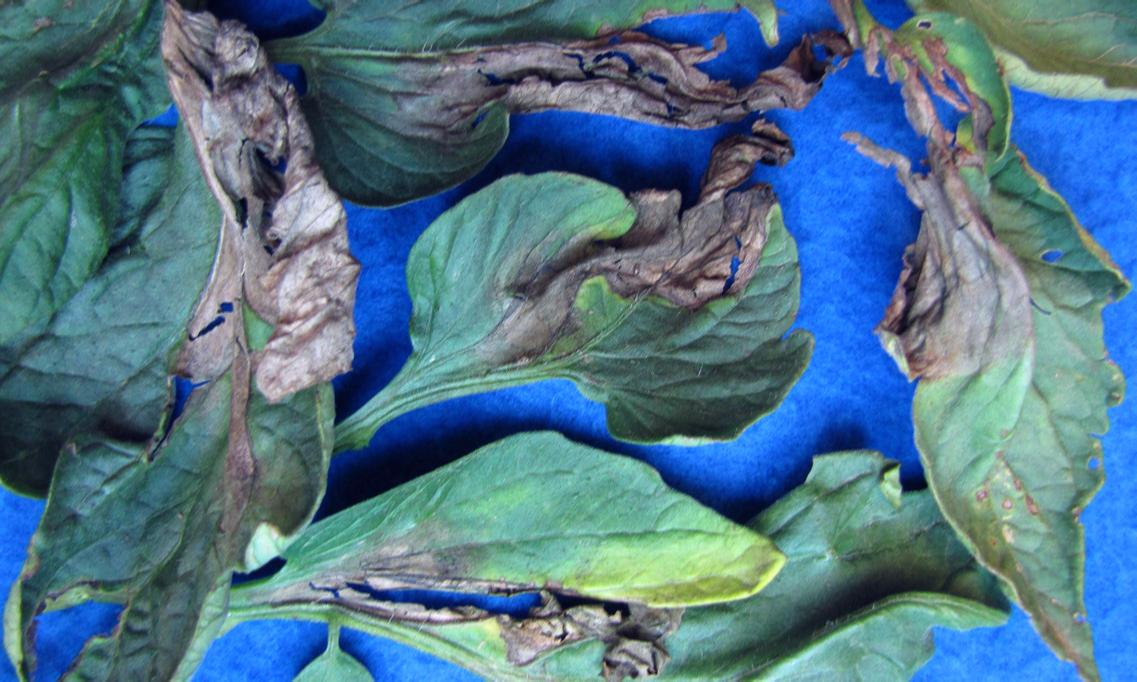Tomato leaf late blight: (0, 75, 365, 682), (852, 47, 1133, 682), (221, 437, 760, 682), (357, 172, 828, 452), (225, 0, 823, 215)
